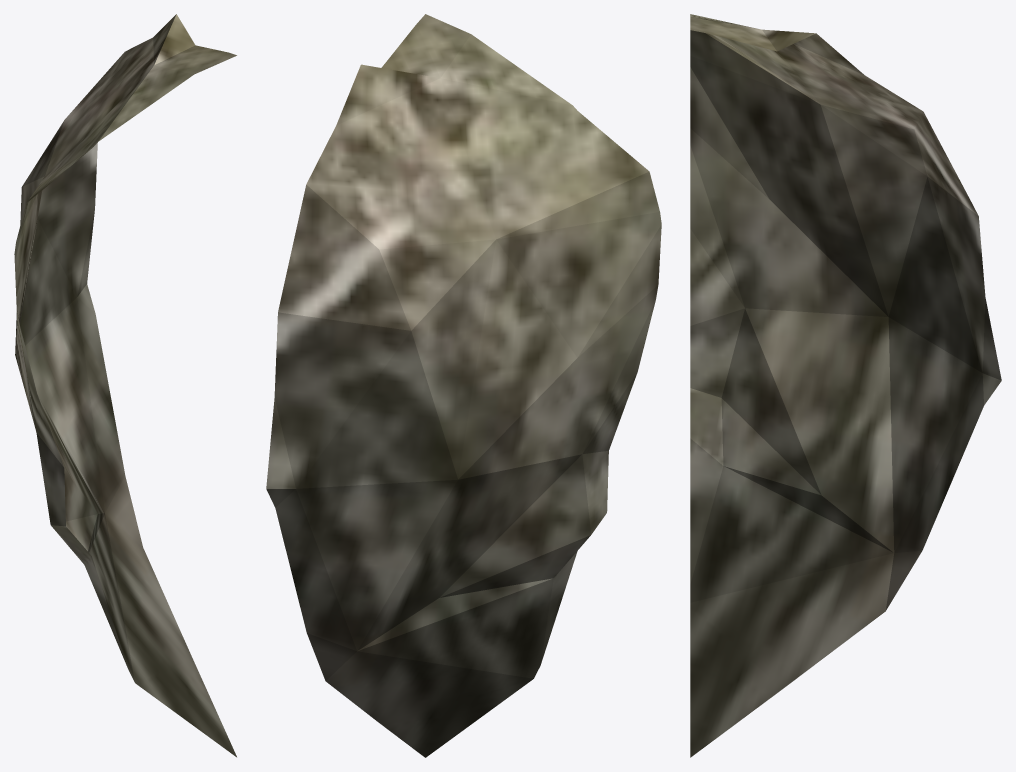
3 views of the same model, side by side, from view 1: azimuth 30°, elevation 25°; view 2: azimuth 150°, elevation 25°; view 3: azimuth 270°, elevation 25° (orthographic). The views are drawn at different scales.
Size of the model in its own units: 0.5452 by 1.64 by 0.6366.
1 material, 1 textured.
